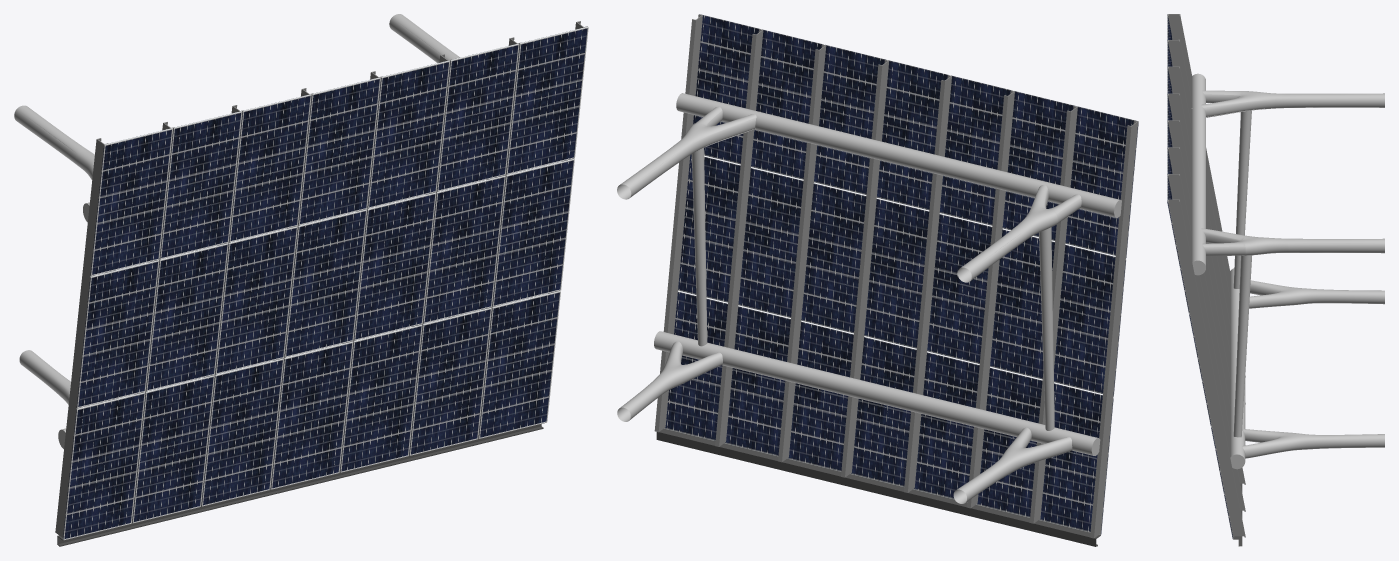
Rendered from SunCommon Residential Rendering for upload.fbx.
3 renders of one model, left to right at view 1: azimuth 30°, elevation 25°; view 2: azimuth 150°, elevation 25°; view 3: azimuth 270°, elevation 25°, orthographic. The views are drawn at different scales.
Visible parts, largest first — view 1: Panels_2, panelframes, Purlins, Col, Gutter; view 2: Panels_2, Purlins, Beams, Col, Gutter; view 3: Purlins, Col, Beams, Panels_2, panelframes.
Boxes of the visible parts, bbox=[...] form: Panels_2: bbox=[63, 26, 587, 539]; panelframes: bbox=[63, 27, 588, 540]; Purlins: bbox=[55, 21, 587, 537]; Col: bbox=[14, 14, 480, 407]; Gutter: bbox=[57, 423, 544, 546]; Panels_2: bbox=[664, 14, 1138, 534]; Purlins: bbox=[654, 14, 1138, 538]; Beams: bbox=[654, 93, 1121, 455]; Col: bbox=[617, 106, 1081, 503]; Gutter: bbox=[656, 428, 1100, 546]; Purlins: bbox=[1168, 14, 1245, 537]; Col: bbox=[1191, 90, 1384, 458]; Beams: bbox=[1192, 73, 1252, 469]; Panels_2: bbox=[1167, 14, 1233, 539]; panelframes: bbox=[1167, 14, 1232, 538].
Size of the model in its own units: 23.08 by 19.8 by 11.32.
